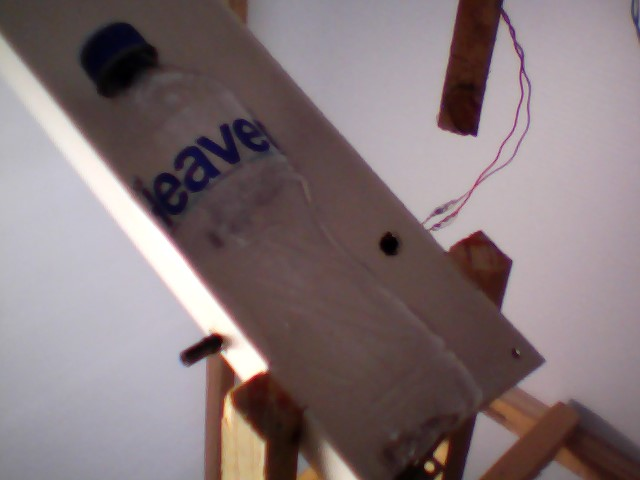plastico: (75, 10, 490, 480)
